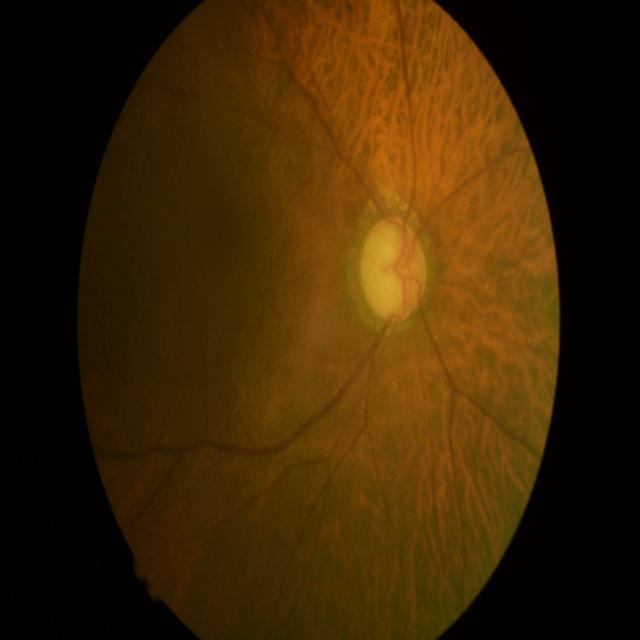cup: (368, 225, 418, 314)
disk: (358, 216, 428, 322)
